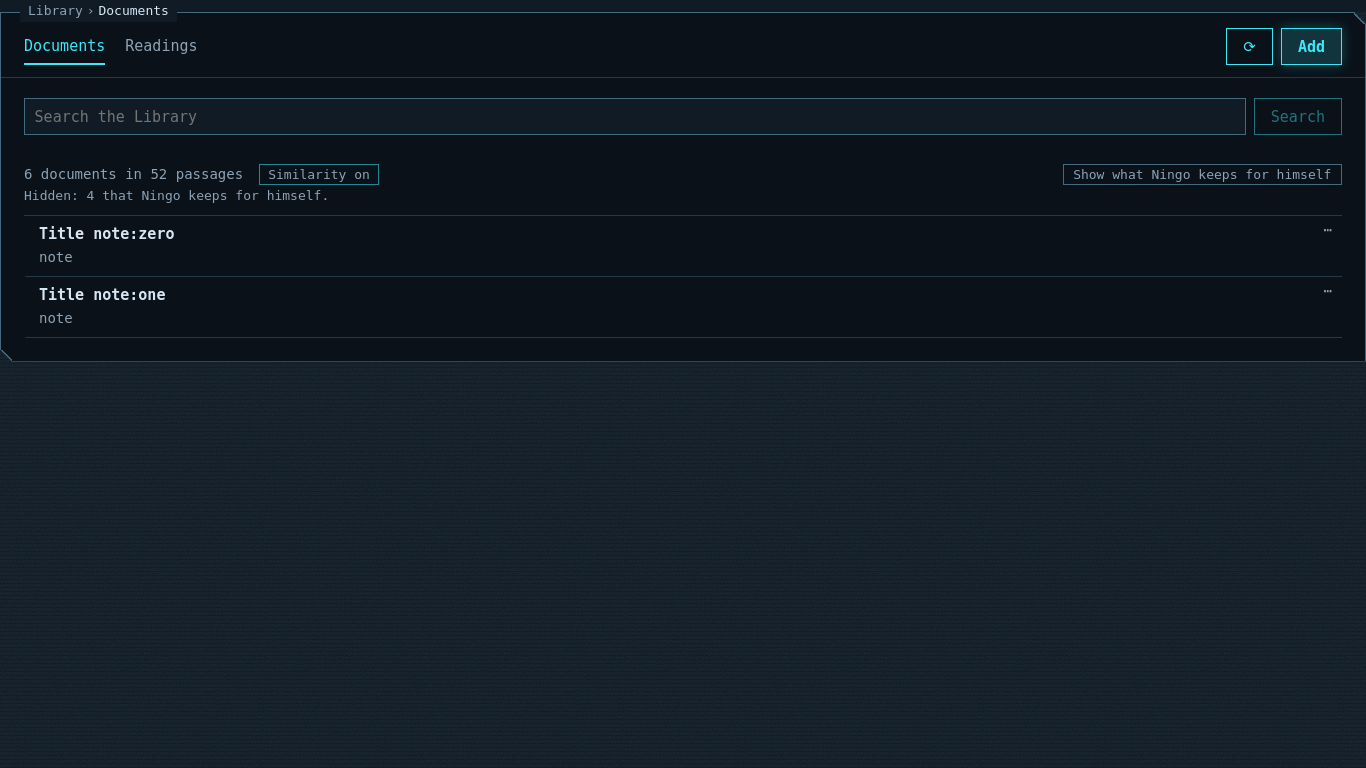
Test: the Library's workspace › opens the drawer from the header on whichever view is shown, and gives the focus back
Expected: the text "6 documents in 52 passages" is shown, [24,163,243,186]
Click the tab "Readings".
click(161, 47)  # box [125,28,198,65]
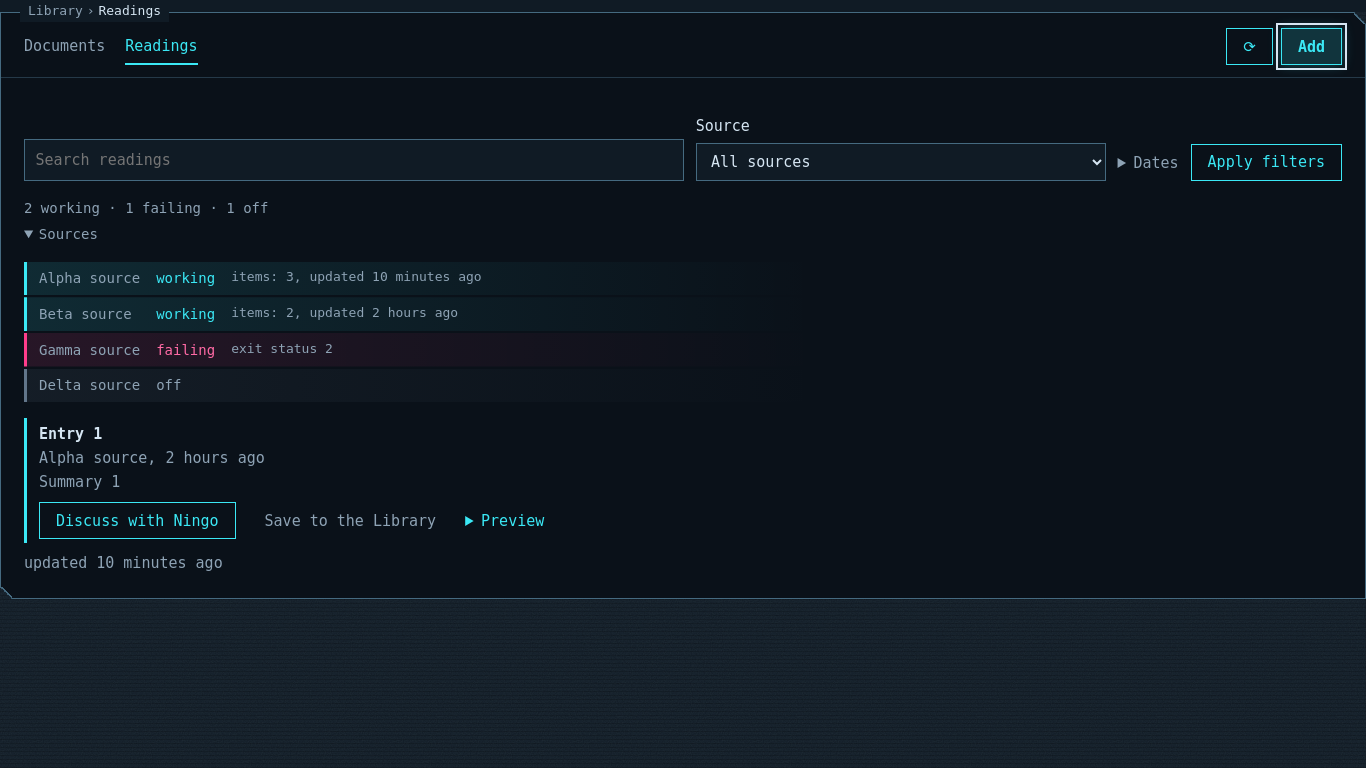
Result: the text "Entry 1" is shown at [39,425,102,443]
Click the button with aria-label "Add to the Library".
click(1311, 47)  # box [1281,28,1342,65]
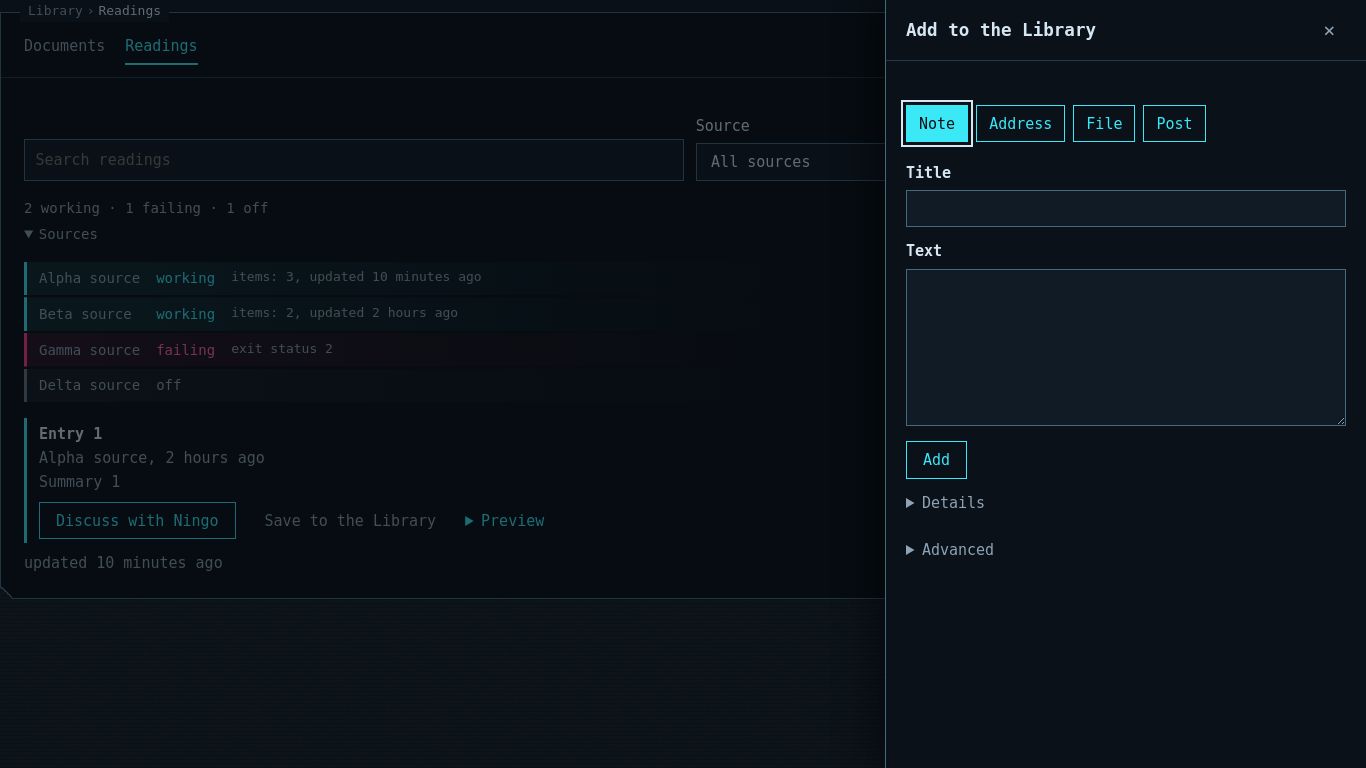
Result: the button with aria-label "Add to the Library" is expanded at [1281,28,1342,65]
Result: the dialog "Add to the Library" is shown
Press Escape in the dialog, box [885,0,1365,767]
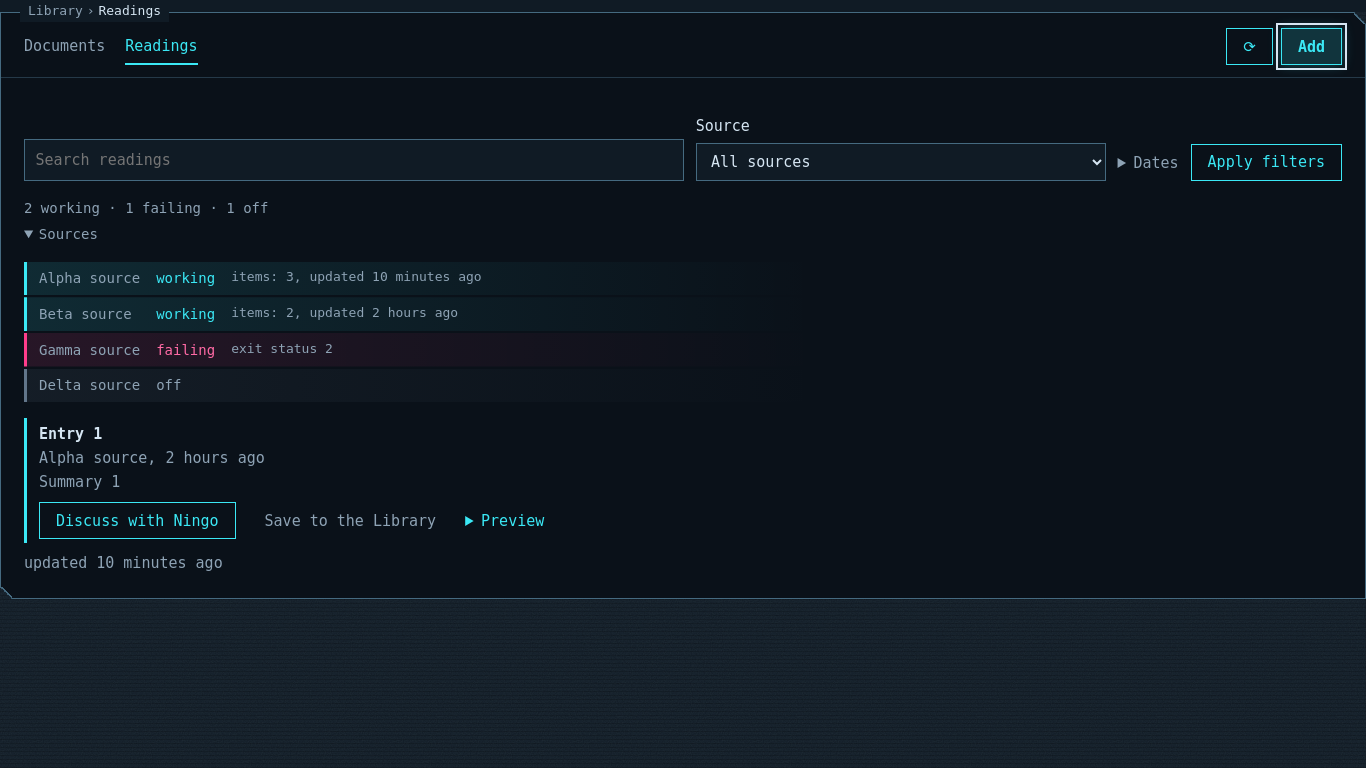
Result: the dialog is gone
